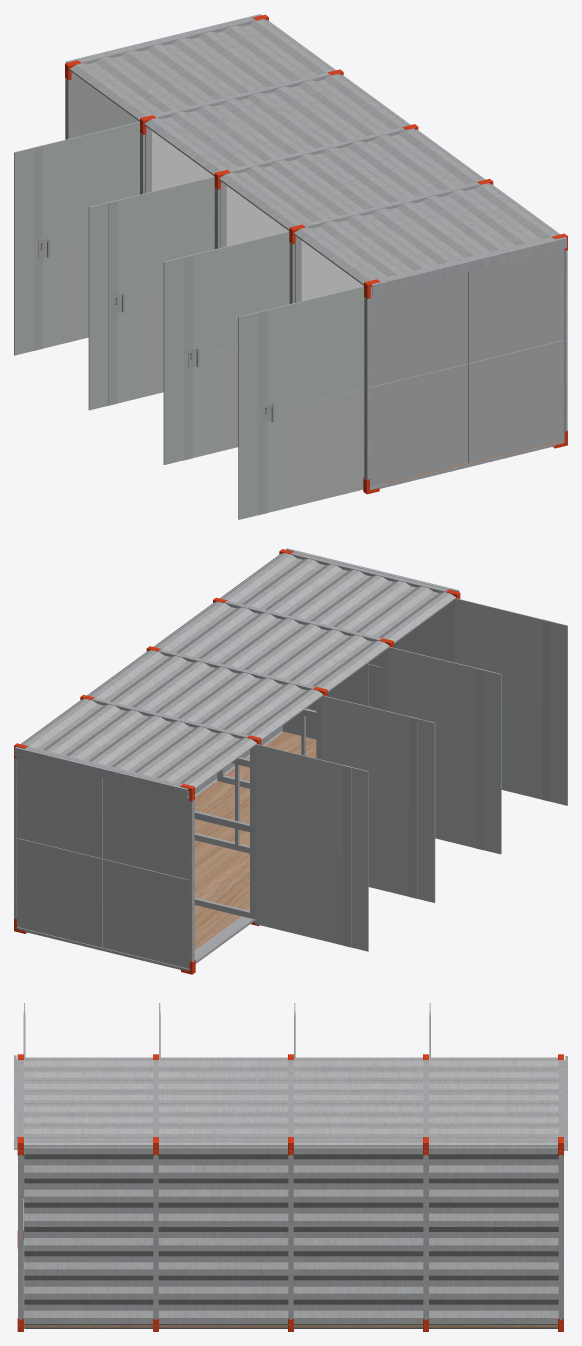
Rendered from 12S4_opened.glb.
3 views of the same model, one above another, from view 1: azimuth 30°, elevation 25°; view 2: azimuth 150°, elevation 25°; view 3: azimuth 270°, elevation 25° (orthographic). The views are drawn at different scales.
Visible parts, largest first — view 1: doors.001, celing, sideWallRight, frontRim, walls, gutter, sideWallLeft, corners, back; view 2: doors.001, celing, sideWallLeft, floor.002, frontRim, sideWallRight, walls, gutter.001, back, corners, floor.001; view 3: back, celing, frontRim, floor.002, corners, doors.001.
Part boxes in pixels (x1,y1,x2,y2): doors.001: [14, 121, 364, 519]; celing: [69, 19, 560, 285]; sideWallRight: [369, 248, 564, 487]; frontRim: [65, 18, 567, 490]; walls: [145, 127, 363, 302]; gutter: [370, 237, 566, 295]; sideWallLeft: [70, 72, 138, 138]; corners: [65, 14, 567, 494]; back: [263, 19, 558, 234]; doors.001: [255, 598, 567, 951]; celing: [21, 553, 455, 789]; sideWallLeft: [16, 757, 189, 968]; floor.002: [194, 731, 316, 950]; frontRim: [14, 552, 447, 970]; sideWallRight: [282, 600, 454, 739]; walls: [194, 649, 387, 919]; gutter.001: [14, 746, 189, 798]; back: [22, 553, 284, 796]; corners: [14, 549, 460, 974]; floor.001: [194, 910, 253, 963]; back: [24, 1140, 558, 1328]; celing: [23, 1057, 558, 1146]; frontRim: [18, 1060, 563, 1324]; floor.002: [23, 1247, 557, 1327]; corners: [17, 1054, 563, 1331]; doors.001: [23, 1003, 430, 1239].
Size of the model in its own units: 37.45 by 23.06 by 61.09.
Materials: 6 (5 with a texture image).
